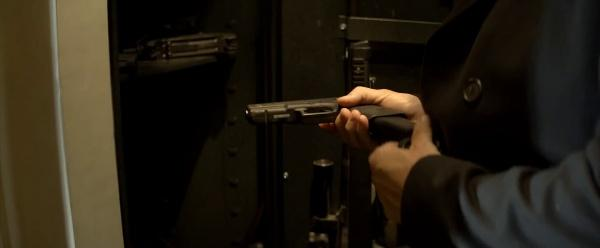Gun: (245, 97, 416, 148)
